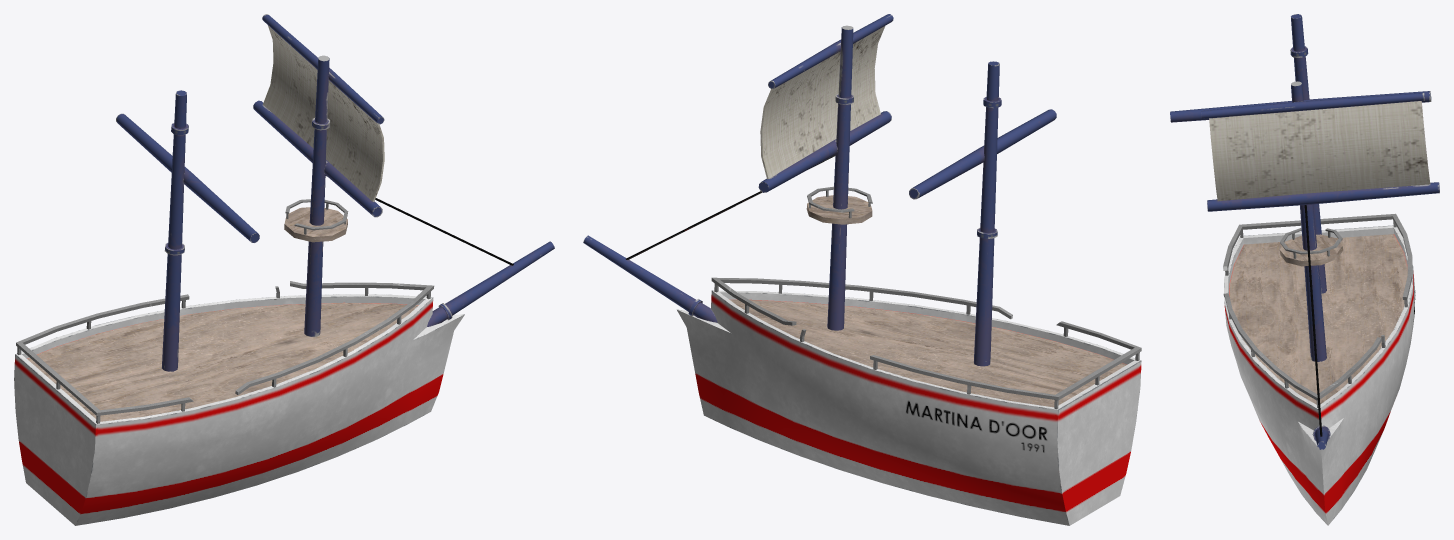
Rendered from ship.fbx.
The picture shows the model from 3 angles, left to right: view 1: azimuth 30°, elevation 25°; view 2: azimuth 150°, elevation 25°; view 3: azimuth 270°, elevation 25°; orthographic projection. The views are drawn at different scales.
Parts seen in each view (by area): view 1: Cube.004, Plane.002, Cylinder.007, Cube.007, Cylinder.013, Cylinder.009, Cylinder.006, Cylinder.008, Cylinder.012; view 2: Cube.004, Plane.002, Cylinder.007, Cylinder.013, Cube.007, Cylinder.009, Cylinder.006, Cylinder.008, Cylinder.012; view 3: Cube.004, Plane.002, Cylinder.007, Cube.007, Cylinder.008, Cylinder.012, Cylinder.013, Cylinder.009, Cylinder.011, Cylinder.018.
Part boxes in pixels (bbox=[...]): Cube.004: bbox=[14, 294, 464, 525]; Plane.002: bbox=[263, 25, 384, 201]; Cylinder.007: bbox=[284, 55, 347, 336]; Cube.007: bbox=[16, 281, 434, 415]; Cylinder.013: bbox=[162, 90, 188, 371]; Cylinder.009: bbox=[116, 113, 259, 242]; Cylinder.006: bbox=[427, 241, 554, 326]; Cylinder.008: bbox=[253, 100, 382, 217]; Cylinder.012: bbox=[262, 14, 384, 124]; Cube.004: bbox=[677, 290, 1141, 525]; Plane.002: bbox=[760, 26, 885, 178]; Cylinder.007: bbox=[806, 25, 872, 330]; Cylinder.013: bbox=[973, 61, 1001, 366]; Cube.007: bbox=[711, 277, 1141, 400]; Cylinder.009: bbox=[909, 109, 1056, 199]; Cylinder.006: bbox=[583, 235, 717, 322]; Cylinder.008: bbox=[758, 111, 891, 192]; Cylinder.012: bbox=[768, 14, 893, 88]; Cube.004: bbox=[1224, 225, 1415, 525]; Plane.002: bbox=[1209, 101, 1430, 201]; Cylinder.007: bbox=[1279, 81, 1343, 361]; Cube.007: bbox=[1223, 213, 1412, 400]; Cylinder.008: bbox=[1207, 182, 1439, 211]; Cylinder.012: bbox=[1201, 92, 1424, 118]; Cylinder.013: bbox=[1290, 14, 1326, 293]; Cylinder.009: bbox=[1170, 91, 1431, 122]; Cylinder.011: bbox=[1304, 205, 1322, 436]; Cylinder.018: bbox=[1280, 228, 1342, 254].
Size of the model in its own units: 12102 by 9257 by 5835.
1 material, 1 textured.
